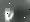person: (6, 9, 11, 22), (11, 10, 15, 21)
